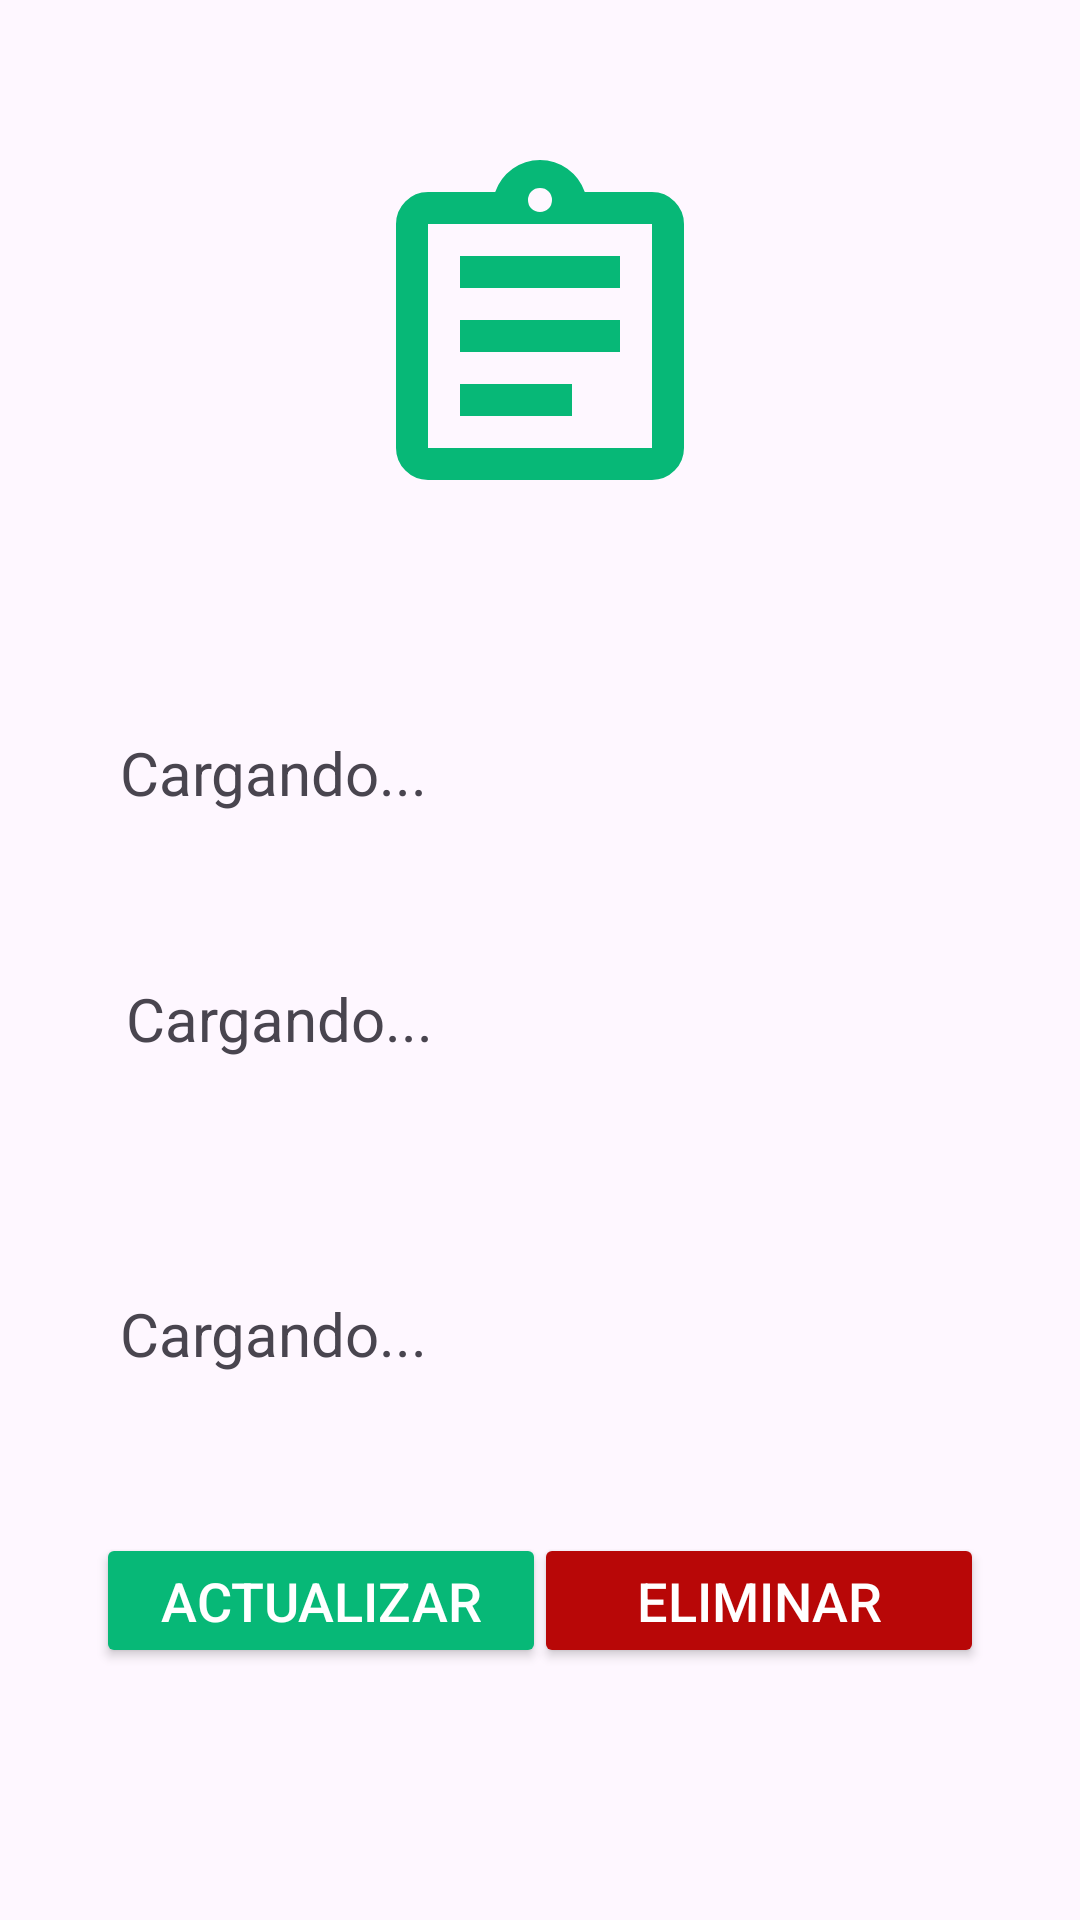

Point at icon controls on the screen. Image size 1080px×1920px, points as point (x, y).
assignment: point (540, 320)
